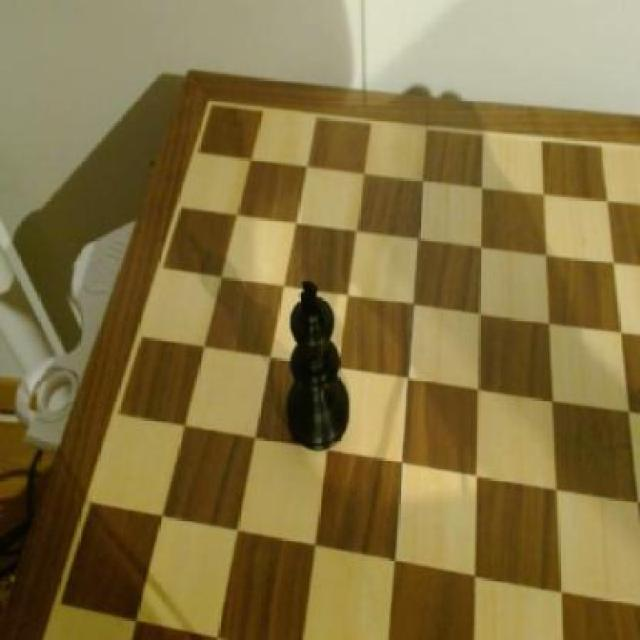black-bishop: (278, 278, 352, 448)
